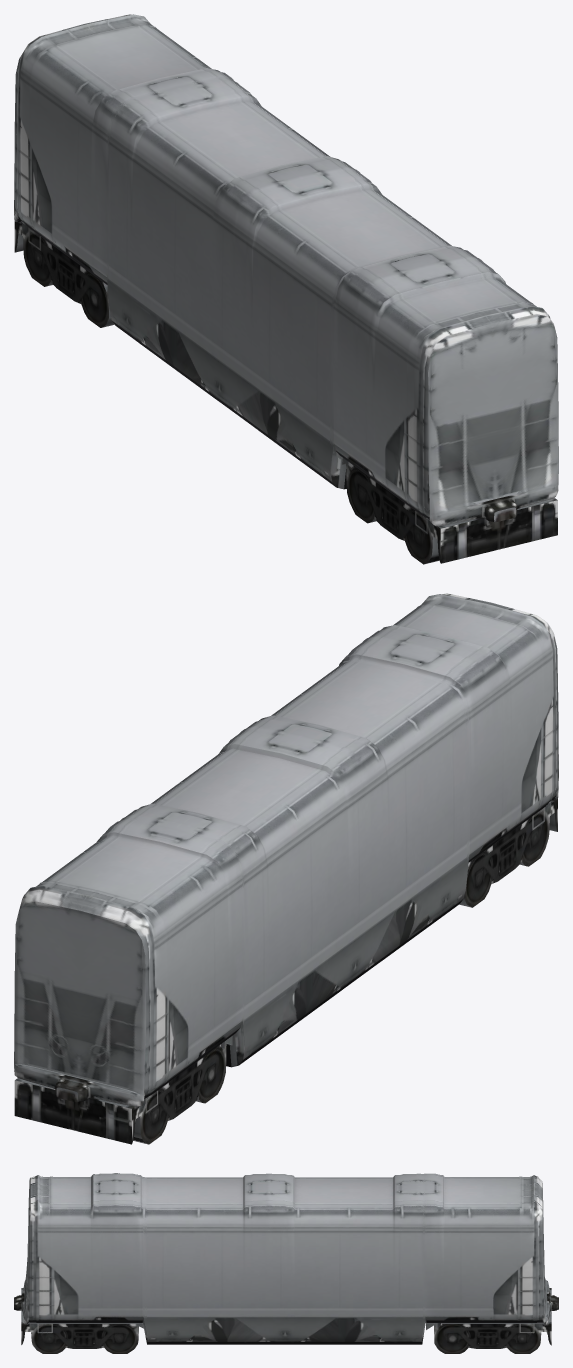
File: tr_hopper.glb
3 views of the same model, one above another, from view 1: azimuth 30°, elevation 25°; view 2: azimuth 150°, elevation 25°; view 3: azimuth 270°, elevation 25° (orthographic). The views are drawn at different scales.
Visible parts, largest first — view 1: body; view 2: body; view 3: body.
Boxes of the visible parts, x1=… form: body: x1=14, y1=14, x2=558, y2=564; body: x1=14, y1=593, x2=558, y2=1144; body: x1=14, y1=1173, x2=558, y2=1353.
Size of the model in its own units: 3.05 by 5.1 by 16.83.
Materials: 1 (1 with a texture image).
